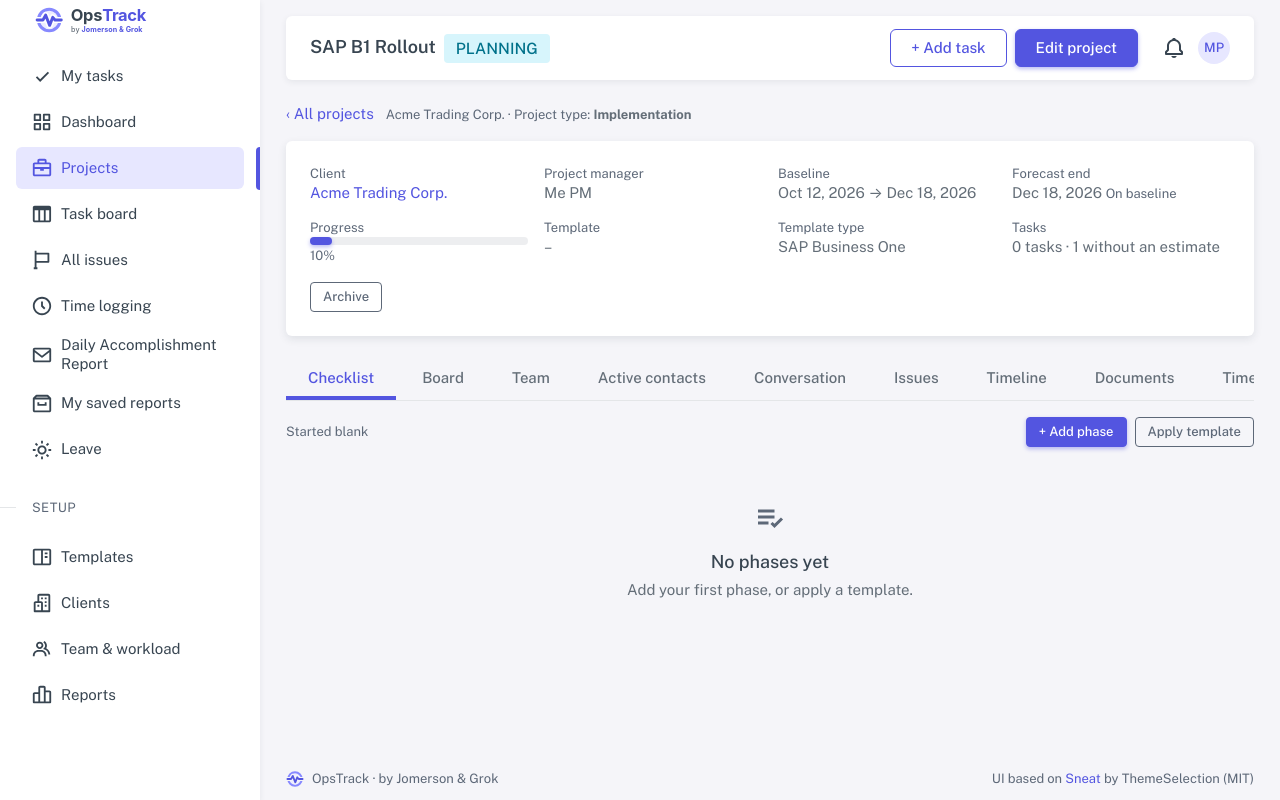
Test: blank project Checklist › applying a template posts it and shows "Added N phases from <name>."
The width and height of the screenshot is (1280, 800).
Click the button "Apply template": (1194, 432) 1134,417 -> 1254,447
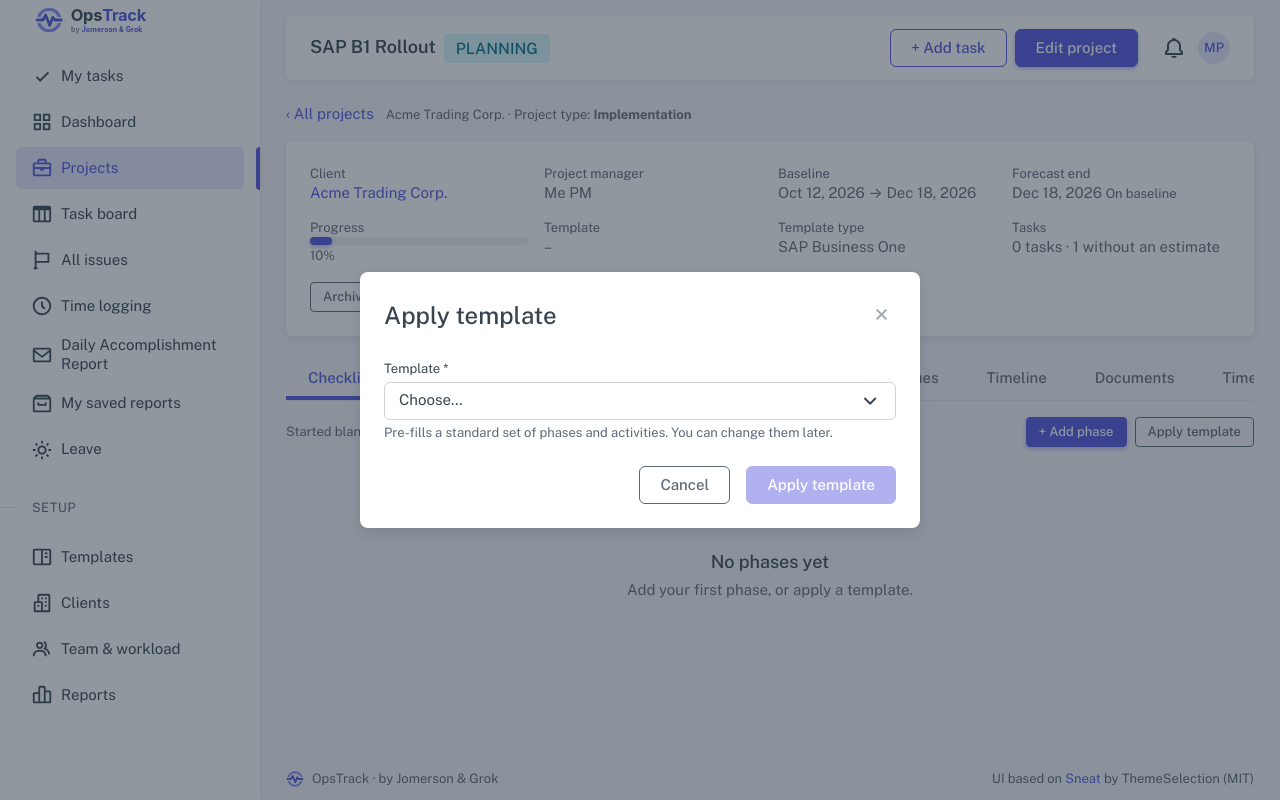
Select "ERP rollout · v3" in the dropdown labelled "Template *": (640, 401) 384,382 -> 896,420
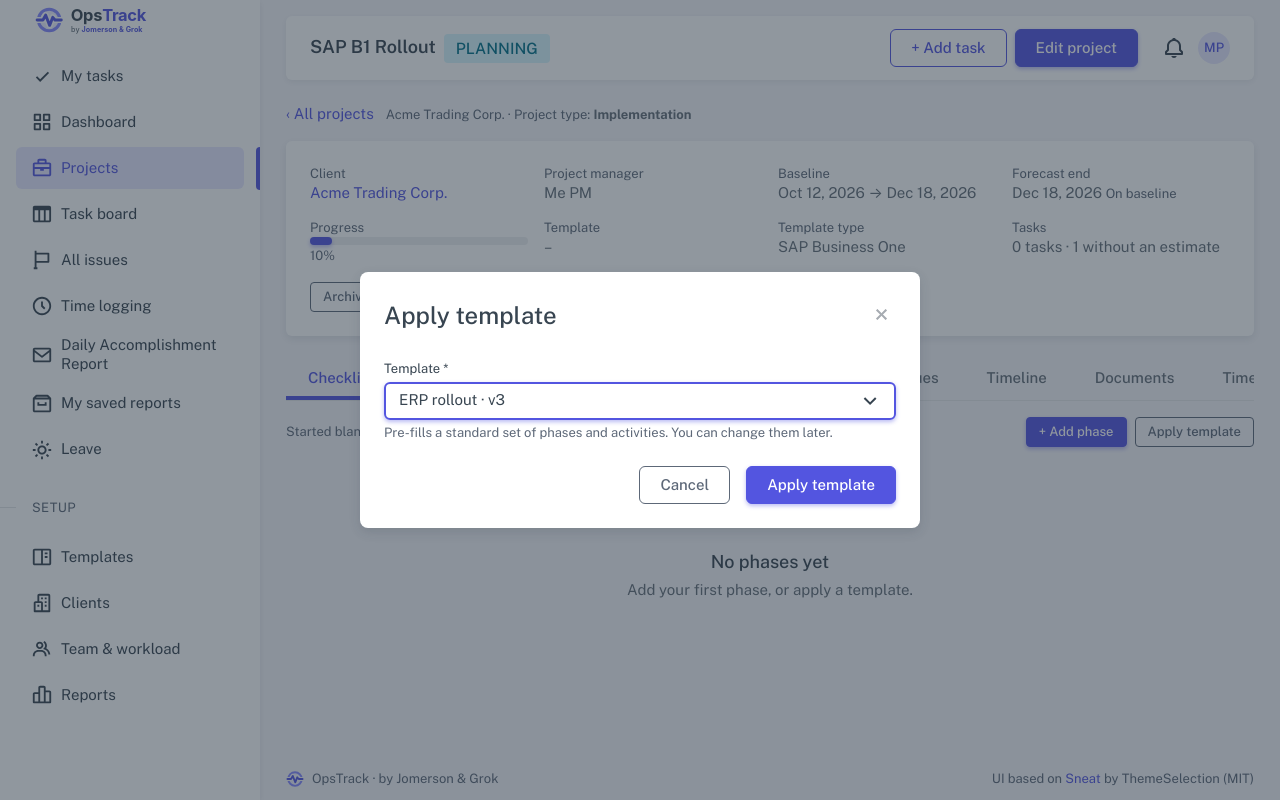
Click the button "Apply template": (821, 485) 746,466 -> 896,504
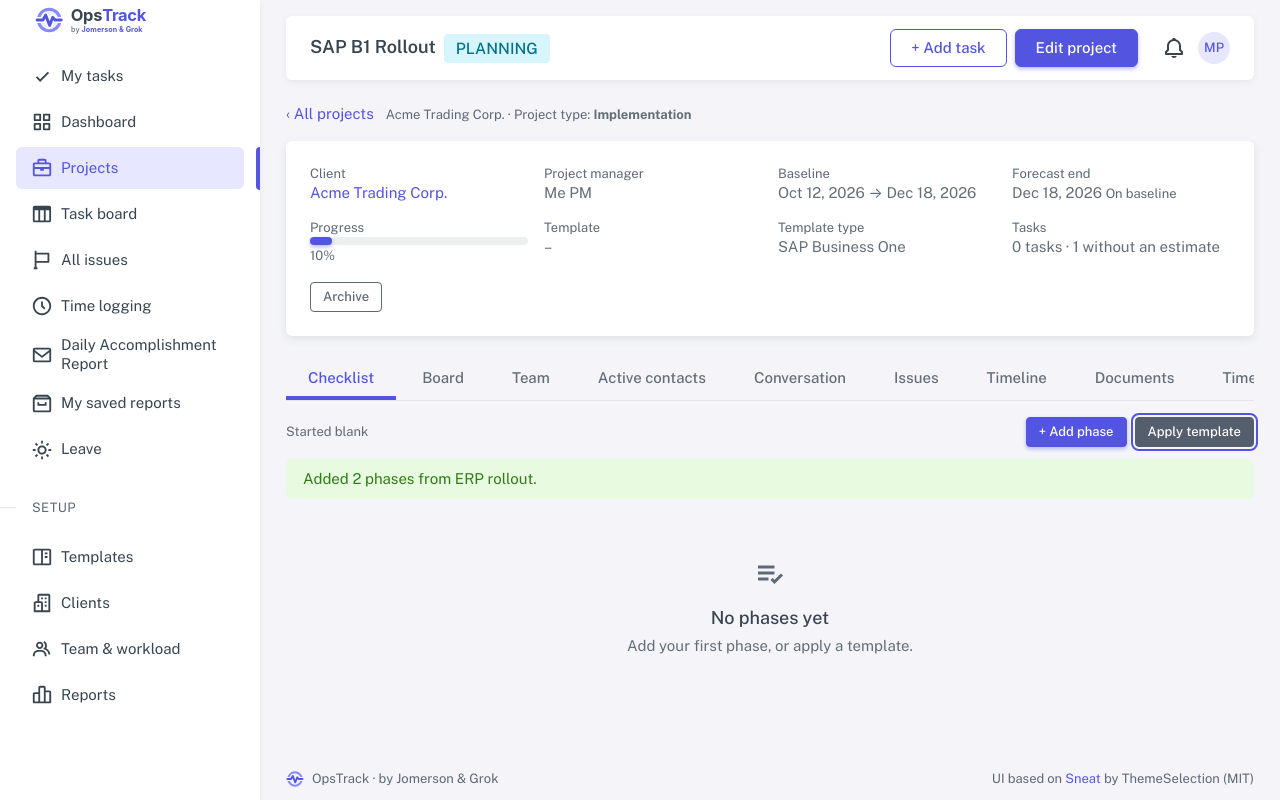
Result: the text "Added 2 phases from ERP rollout." is shown at 286,459 -> 1254,499
